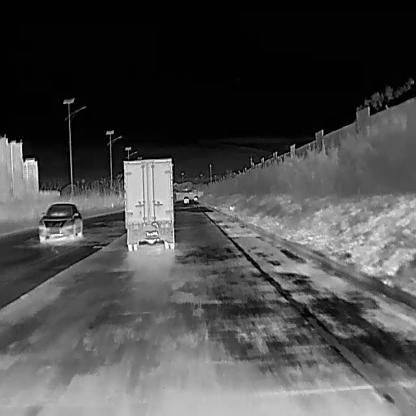car: (37, 202, 82, 242), (183, 194, 189, 202), (192, 194, 198, 199)
truck: (122, 156, 176, 250)
